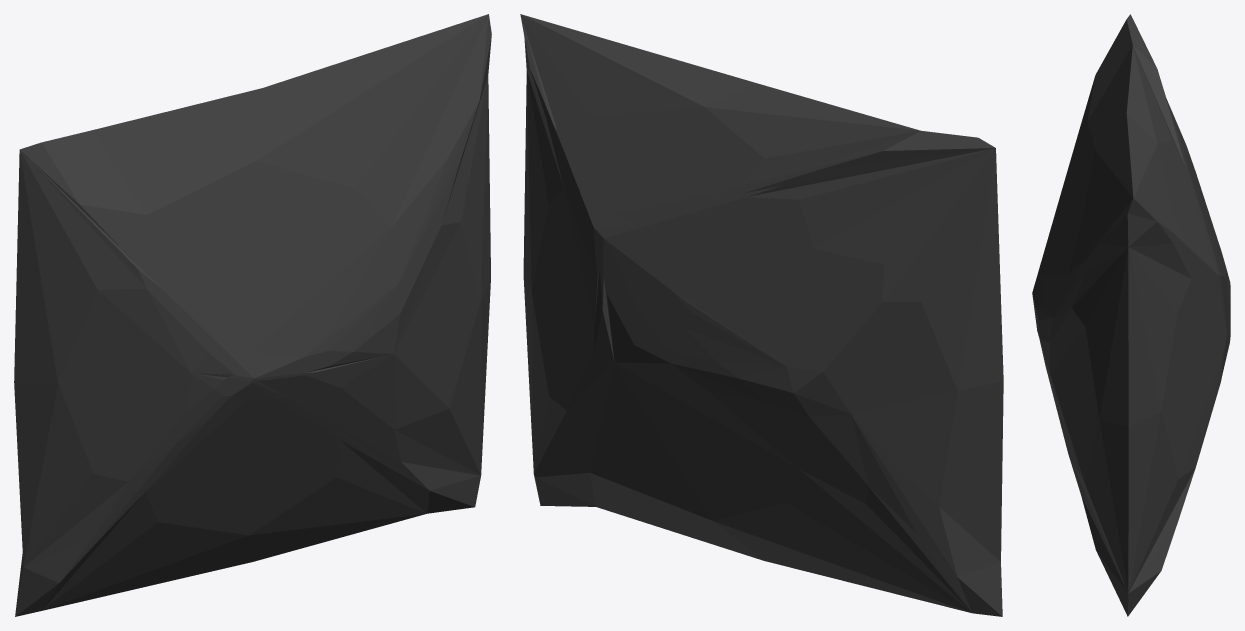
The picture shows the model from 3 angles, left to right: view 1: azimuth 30°, elevation 25°; view 2: azimuth 150°, elevation 25°; view 3: azimuth 270°, elevation 25°; orthographic projection. The views are drawn at different scales.
Parts seen in each view (by area): view 1: world; view 2: world; view 3: world.
Part boxes in pixels (x1,y1,x2,y2): world: (14,14,491,616); world: (520,14,1003,616); world: (1032,14,1230,616).
Size of the model in its own units: 2691 by 2624 by 1107.
1 material, 1 textured.
